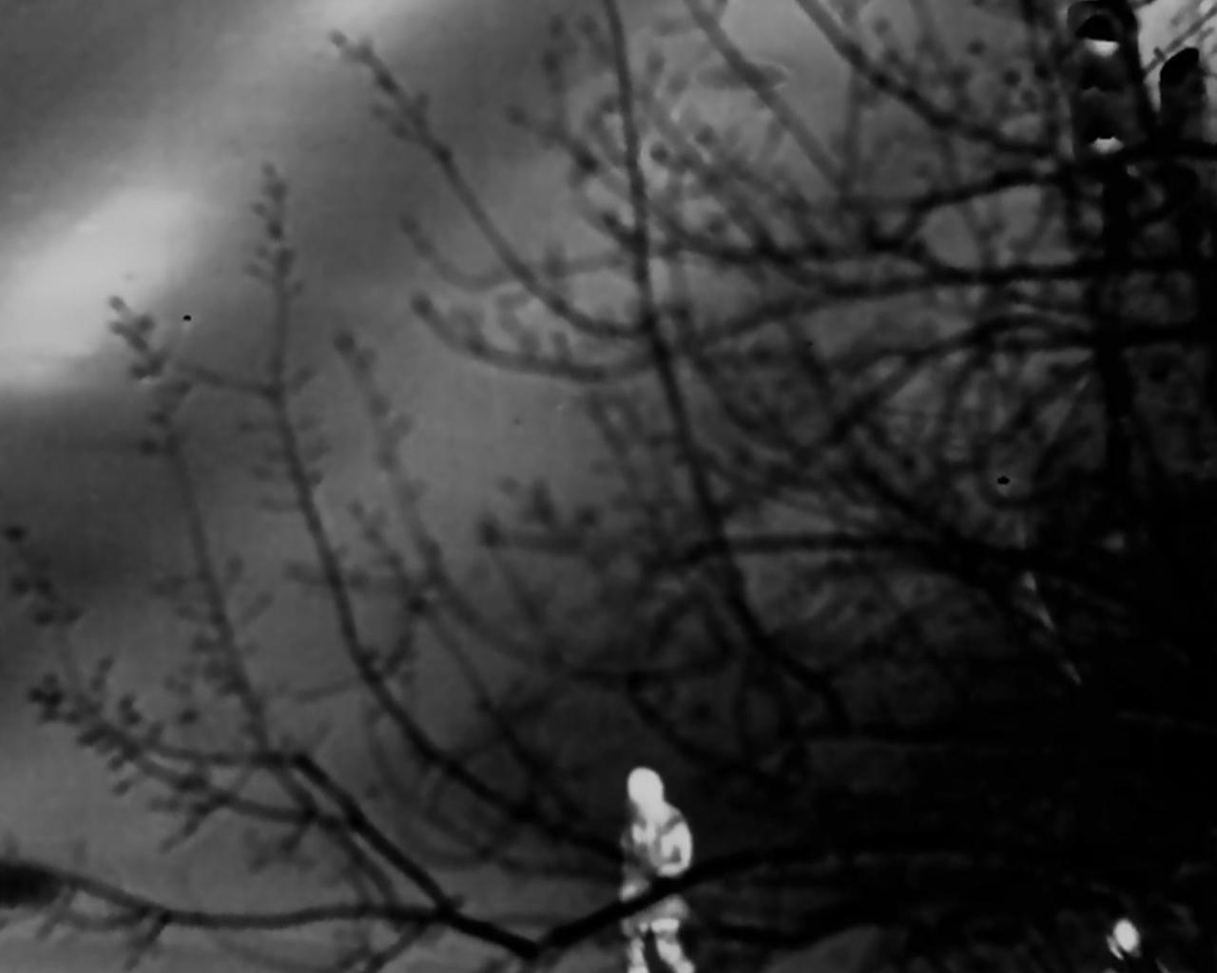person: (621, 768, 698, 973)
